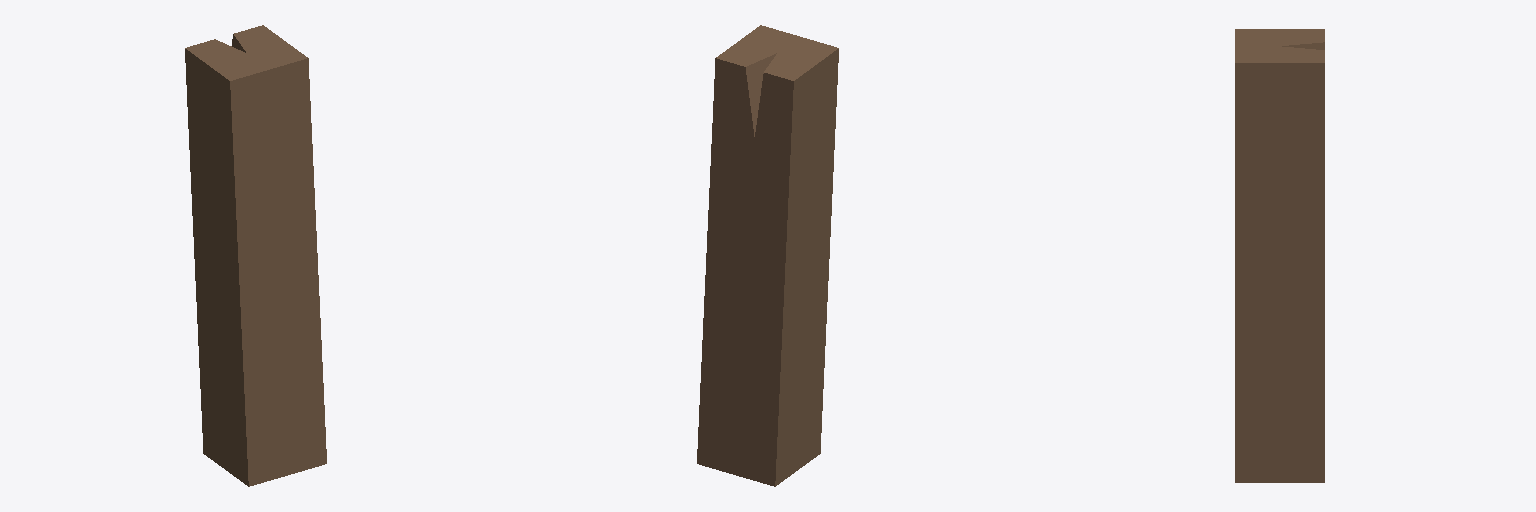
The model's file is Hilly_Prop_Fence_Post_2.obj.
The picture shows the model from 3 angles: view 1: azimuth 30°, elevation 25°; view 2: azimuth 150°, elevation 25°; view 3: azimuth 270°, elevation 25°; orthographic projection.
Parts seen in each view (by area): view 1: object1; view 2: object1; view 3: object1.
Boxes of the visible parts, x1,y1,x2,y2 form: object1: [185, 25, 326, 486]; object1: [697, 25, 838, 486]; object1: [1235, 29, 1324, 482].
Bounding box in the file's own units: 0.1855 × 0.7563 × 0.15.